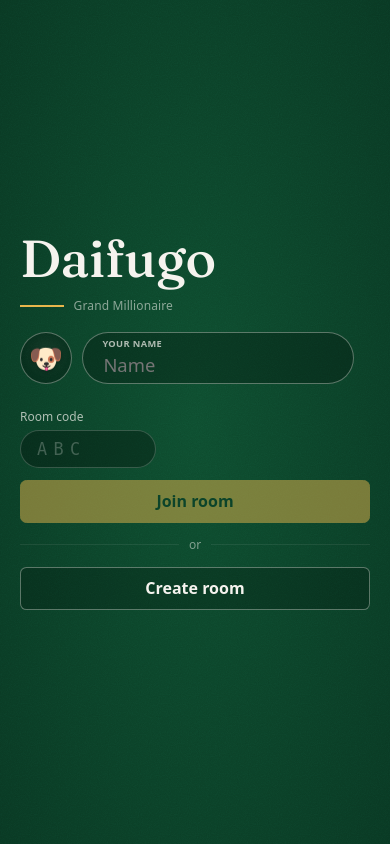
Test: MainMenu › dismisses the icon picker with Escape and returns focus
Click the button named "Your icon". click: (46, 358)
box: [20,332,72,384]
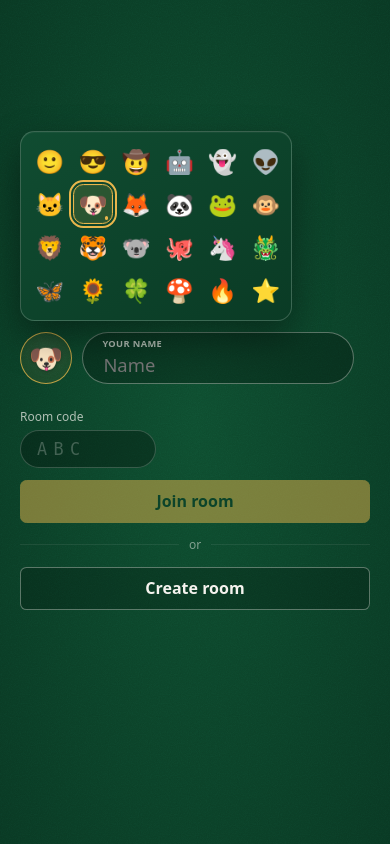
Press Escape
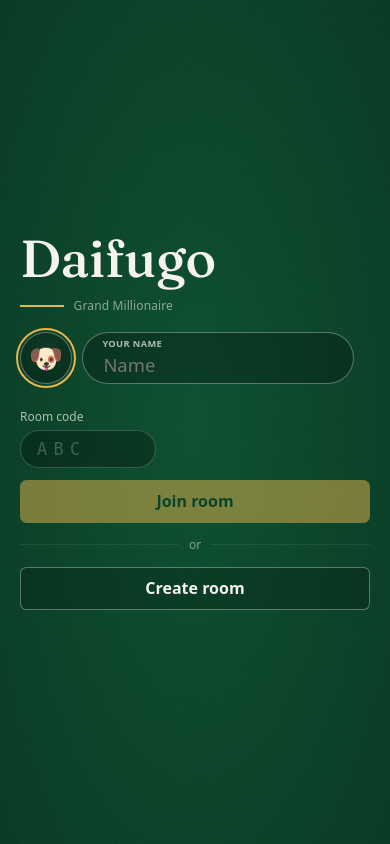
Now the button named "Your icon" is collapsed, box [20,332,72,384]
